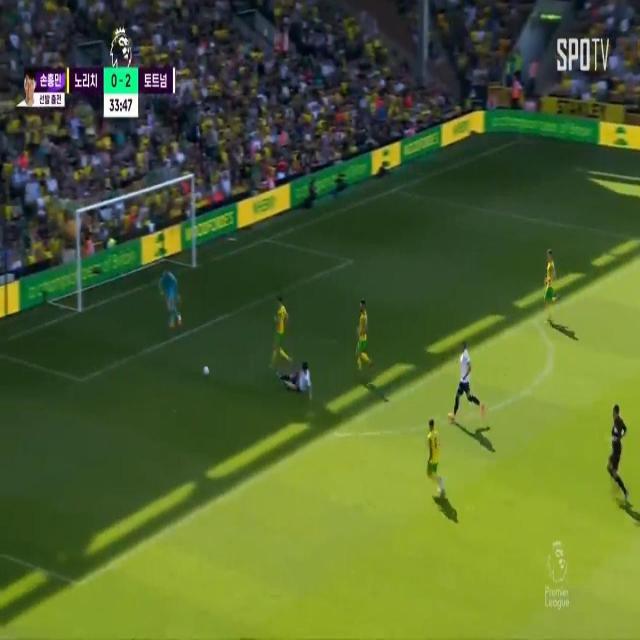ball: (202, 361, 214, 379)
player: (451, 334, 475, 424), (351, 297, 375, 379), (274, 361, 322, 401), (268, 292, 292, 370), (539, 247, 563, 310), (426, 417, 442, 499)
referee: (606, 398, 630, 504)
